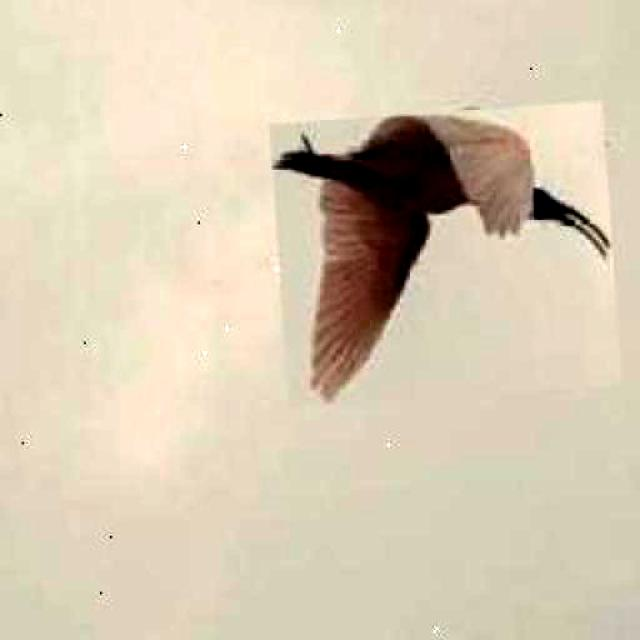airplane: (269, 99, 622, 408)
